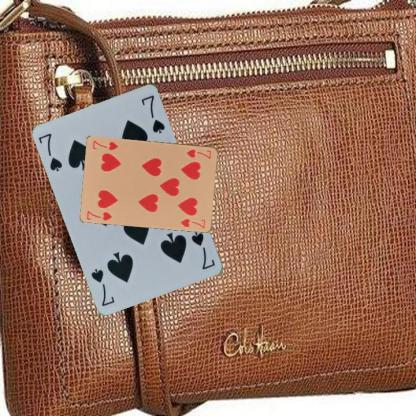7h: (184, 146, 213, 160), (84, 208, 113, 221)
7s: (36, 130, 64, 173), (189, 229, 217, 271)
